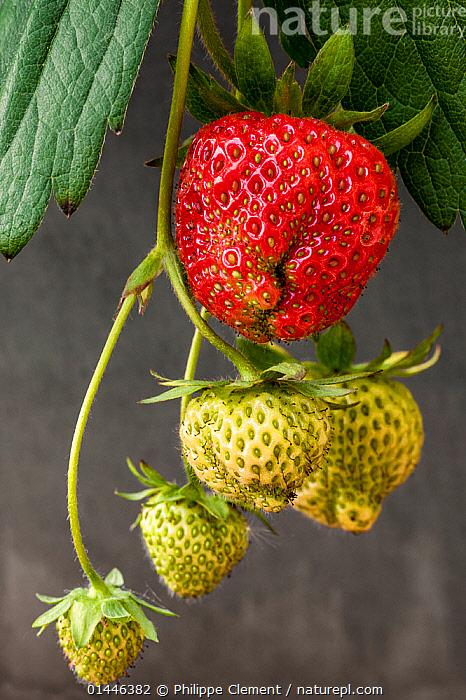straw-ripe: (177, 111, 400, 338)
straw-unripe: (289, 367, 426, 530), (212, 382, 327, 496), (144, 486, 251, 599), (61, 587, 146, 690)
